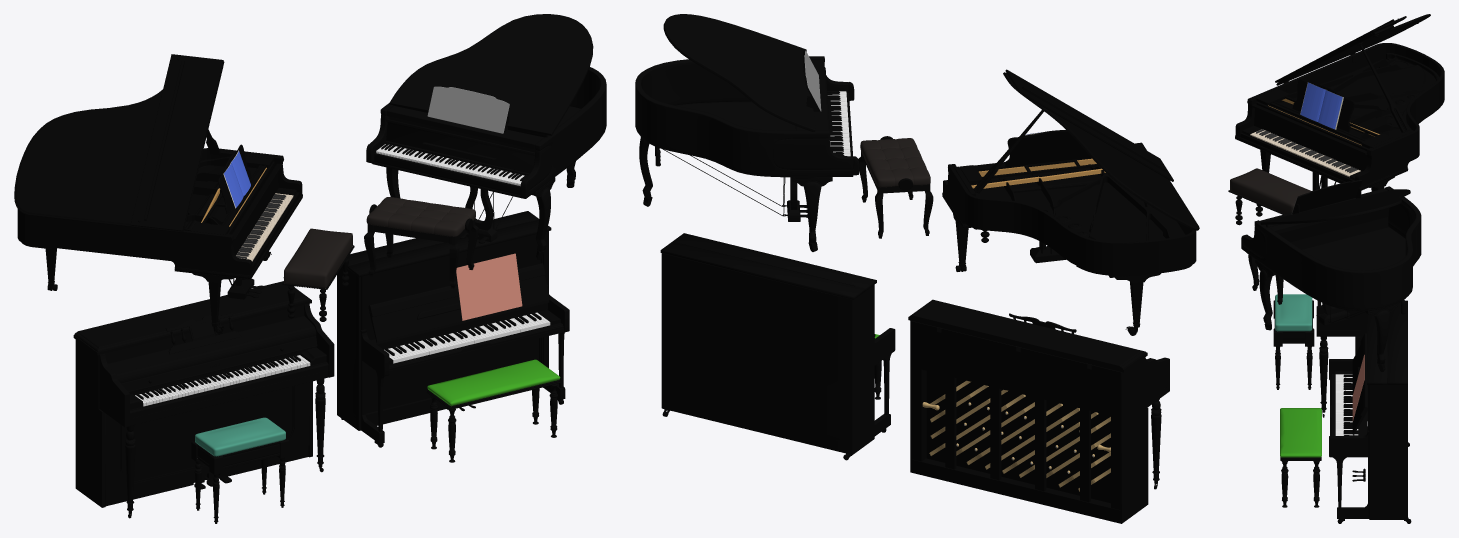
Rendered from gangqin.FBX.
The picture shows the model from 3 angles, left to right: view 1: azimuth 30°, elevation 25°; view 2: azimuth 150°, elevation 25°; view 3: azimuth 270°, elevation 25°; orthographic projection. The views are drawn at different scales.
Visible parts, largest first — view 1: 建E_model_202211815114499016, 建E_model_20221181511451183, 建E_model_202211815114499478, 建E_model_202211815114499136, 建E_model_20221181511452193, 建E_model_202211815114499135, 建E_model_202211815114499133, 建E_model_202211815114499357, 建E_model_202211815114499363, 建E_model_202211815114499253, 建E_model_2022118151144997117, 建E_model_202211815114498910 (+23 smaller); view 2: 建E_model_20221181511451183, 建E_model_202211815114499478, 建E_model_202211815114499016, 建E_model_202211815114499135, 建E_model_202211815114499136, 建E_model_20221181511452193, 建E_model_20221181511451184, 建E_model_202211815114499476, 建E_model_202211815114499253, 建E_model_202211815114499134, 建E_model_202211815114499475, 建E_model_202211815114499251 (+6 smaller); view 3: 建E_model_202211815114499016, 建E_model_202211815114499135, 建E_model_202211815114499478, 建E_model_202211815114499134, 建E_model_202211815114499132, 建E_model_202211815114499363, 建E_model_202211815114498910, 建E_model_202211815114499136, 建E_model_202211815114499476, 建E_model_20221181511455230, 建E_model_202211815114499140, 建E_model_202211815114499475 (+20 smaller).
Boxes of the visible parts, x1,y1,x2,y2 form: 建E_model_202211815114499016: (14,54,302,334); 建E_model_20221181511451183: (75,305,328,507); 建E_model_202211815114499478: (337,231,548,430); 建E_model_202211815114499136: (389,14,593,137); 建E_model_20221181511452193: (73,281,311,355); 建E_model_202211815114499135: (366,67,606,198); 建E_model_202211815114499133: (386,119,534,173); 建E_model_202211815114499357: (456,253,522,320); 建E_model_202211815114499363: (427,359,560,406); 建E_model_202211815114499253: (366,197,475,236); 建E_model_2022118151144997117: (368,275,549,341); 建E_model_202211815114498910: (283,228,352,288); 建E_model_20221181511451183: (910,320,1148,523); 建E_model_202211815114499478: (661,253,874,454); 建E_model_202211815114499016: (942,69,1199,335); 建E_model_202211815114499135: (635,56,859,175); 建E_model_202211815114499136: (663,14,815,131); 建E_model_20221181511452193: (908,299,1147,372); 建E_model_20221181511451184: (929,380,1110,491); 建E_model_202211815114499476: (660,241,865,299); 建E_model_202211815114499253: (860,138,930,187); 建E_model_202211815114499134: (643,93,853,177); 建E_model_202211815114499475: (672,233,876,290); 建E_model_202211815114499251: (858,151,933,238); 建E_model_202211815114499016: (1235,14,1444,191); 建E_model_202211815114499135: (1241,186,1421,309); 建E_model_202211815114499478: (1364,385,1407,519); 建E_model_202211815114499134: (1246,227,1406,310); 建E_model_202211815114499132: (1260,188,1389,249); 建E_model_202211815114499363: (1280,408,1321,457); 建E_model_202211815114498910: (1230,168,1311,214); 建E_model_202211815114499136: (1260,189,1410,227); 建E_model_202211815114499476: (1387,300,1407,384); 建E_model_20221181511455230: (1275,294,1312,331); 建E_model_202211815114499140: (1292,180,1362,214); 建E_model_202211815114499475: (1367,314,1387,384).
Bounding box in the file's own units: 5259 × 3619 × 1985.
